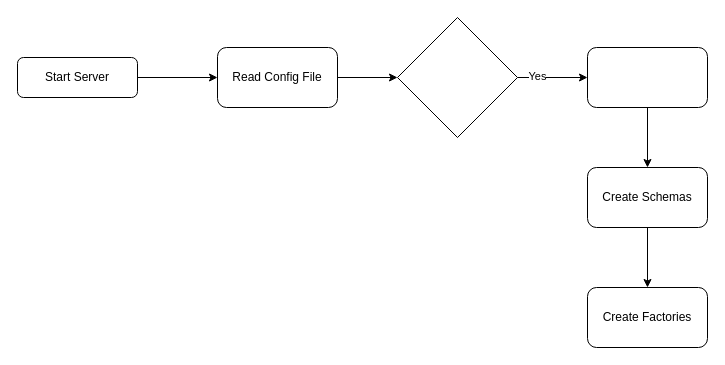
Image size: 725x365. Some labels were removed from this diagram. The shapes that lost their labels are listed below. From the top down, each one's centre as x and y in pixels, then its label:
point 457,77: Has Swagger Endpoints?
point 647,77: Download JSON
